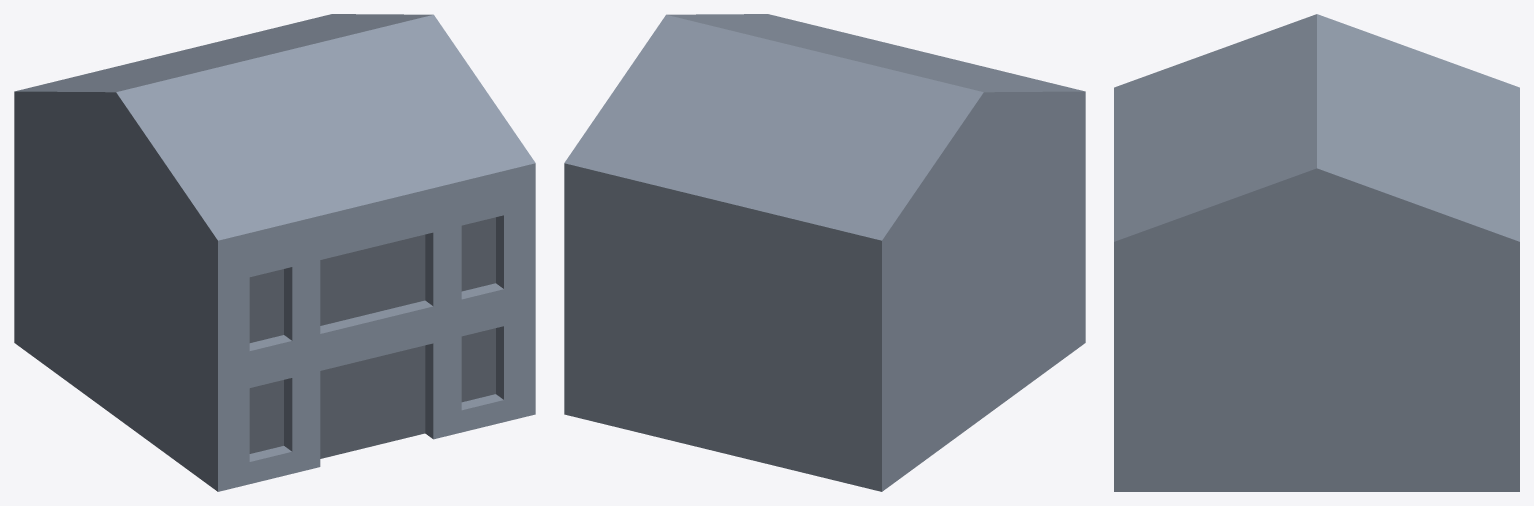
The model's file is binakapanacak3.gltf.
3 views of the same model, side by side, from view 1: azimuth 30°, elevation 25°; view 2: azimuth 150°, elevation 25°; view 3: azimuth 270°, elevation 25° (orthographic).
Parts seen in each view (by area): view 1: Building_042.010, Building_042.014, Building_042.015; view 2: Building_042.010; view 3: Building_042.010.
Boxes of the visible parts, x1,y1,x2,y2 form: Building_042.010: (14,14,535,491); Building_042.014: (249,217,495,453); Building_042.015: (320,345,425,458); Building_042.010: (564,14,1085,491); Building_042.010: (1114,14,1519,491).
Bounding box in the file's own units: 0.0489 × 0.0478 × 0.0543.
